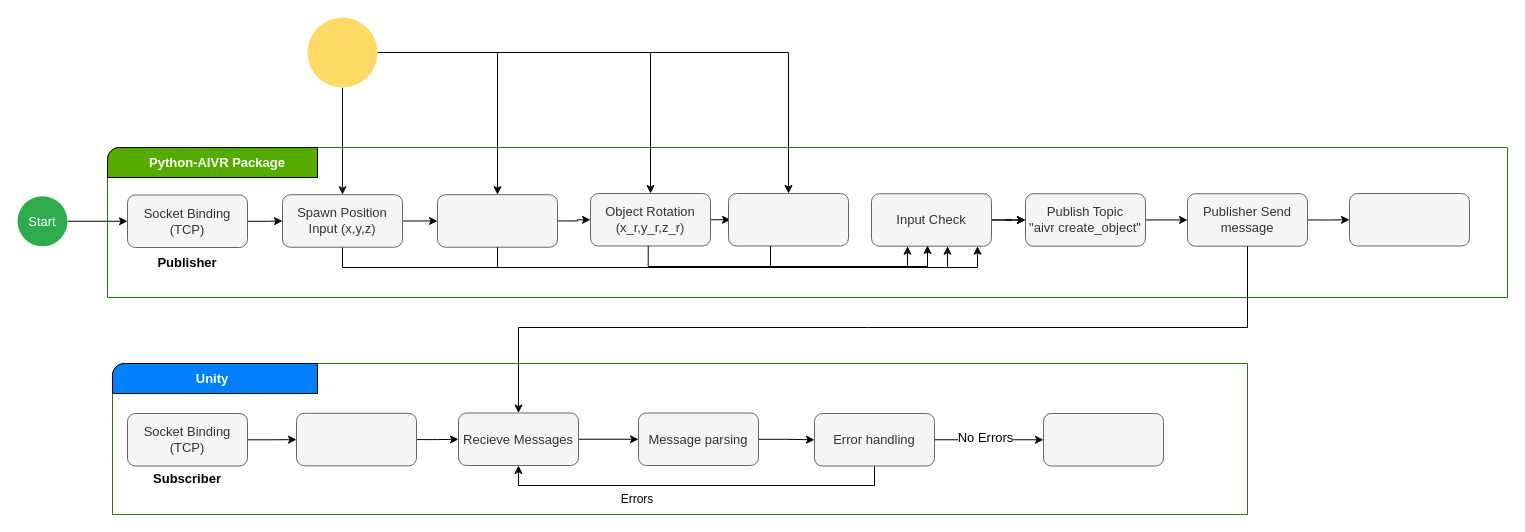
Some shapes in this 1525 by 532 pixel diagram are drawn without their labels. The box of each missing label's shape, as (x1, y1, x2, y2) in pixels:
Create Object: (1042, 412, 1164, 466)
Object Color (R,G,B): (728, 192, 848, 246)
Object Scale Input (l,w,h): (436, 194, 558, 247)
Socket close: (1348, 192, 1470, 246)
Subscribe to topic: (296, 412, 416, 466)
User Input: (307, 17, 377, 87)
